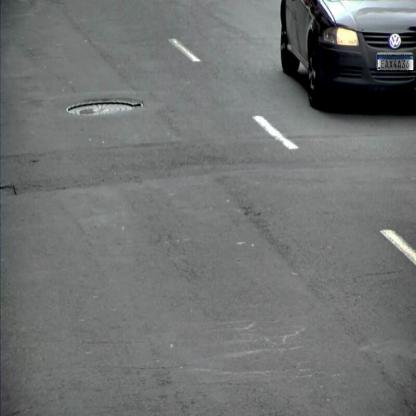PlacaM: (377, 54, 414, 70)
